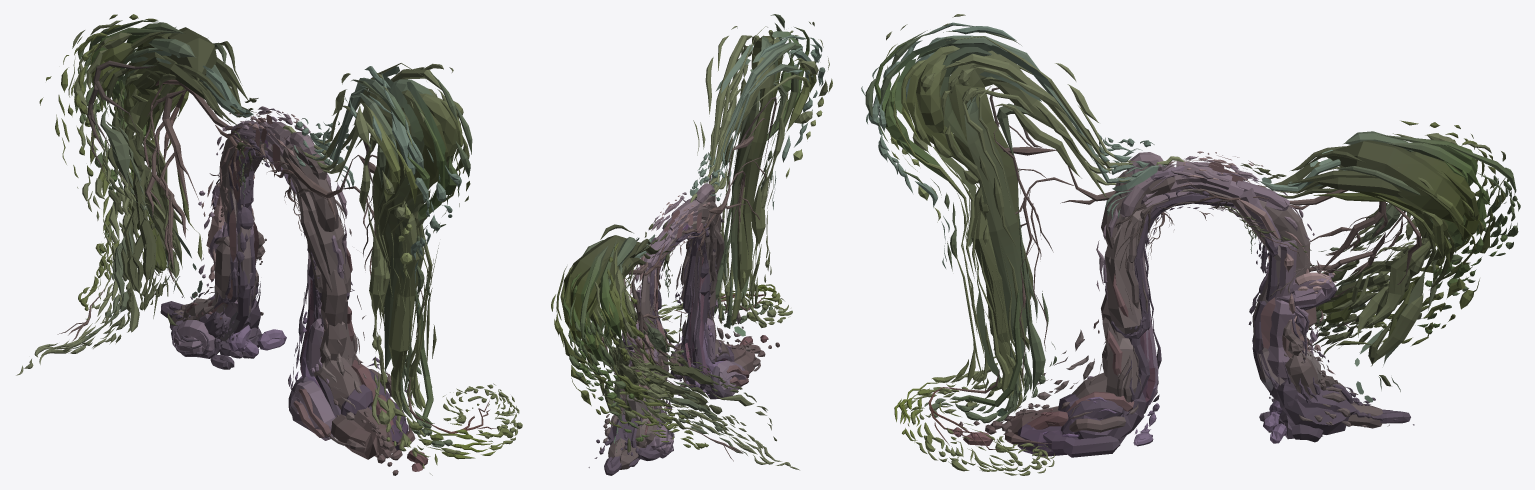
File: gate_00.fbx
3 renders of one model, left to right at view 1: azimuth 30°, elevation 25°; view 2: azimuth 150°, elevation 25°; view 3: azimuth 270°, elevation 25°, orthographic. The views are drawn at different scales.
Visible parts, largest first — view 1: Paint; view 2: Paint; view 3: Paint.
Boxes of the visible parts, left/top/right/bottom form: Paint: left=16, top=14, right=522, bottom=475; Paint: left=551, top=14, right=832, bottom=475; Paint: left=861, top=14, right=1520, bottom=475.
Size of the model in its own units: 7.45 by 8.48 by 12.14.
